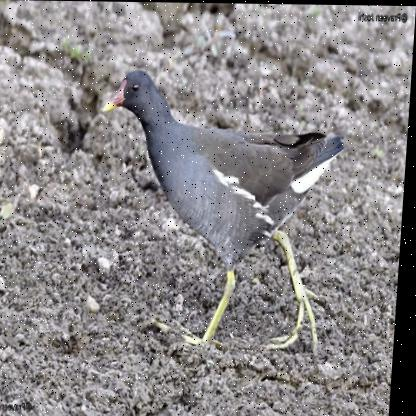Burung: (92, 69, 351, 345)
